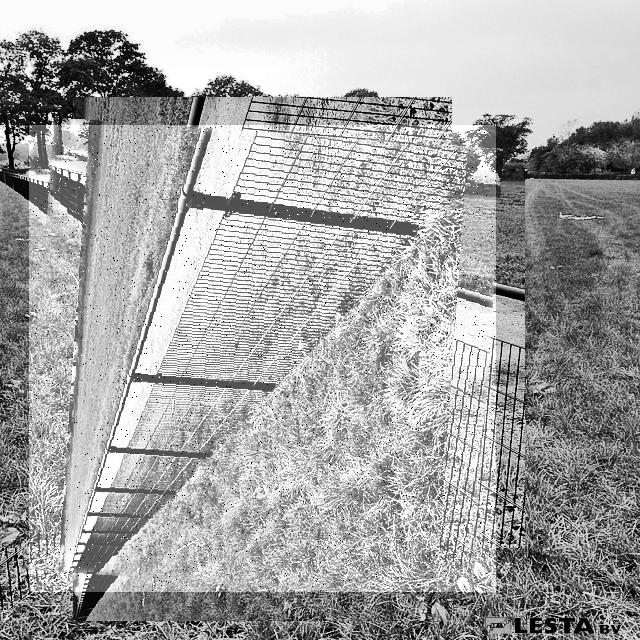fences: (29, 125, 496, 592)
